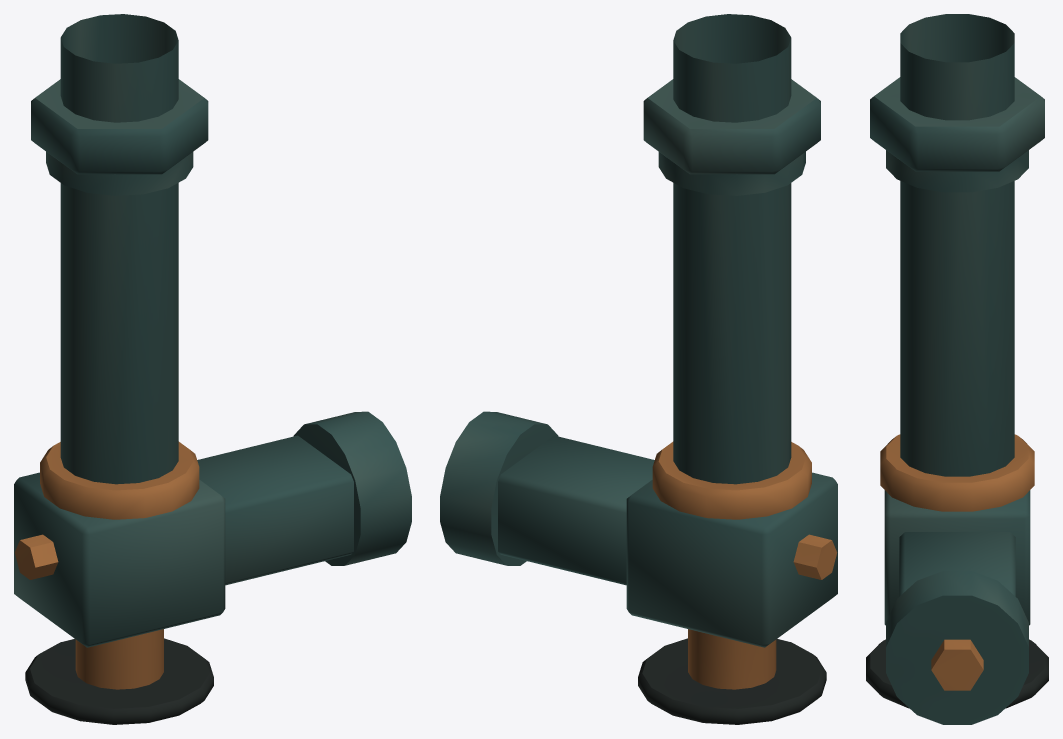
The model's file is gauge_dial_stand.glb.
3 renders of one model, left to right at view 1: azimuth 30°, elevation 25°; view 2: azimuth 150°, elevation 25°; view 3: azimuth 270°, elevation 25°, orthographic.
Visible parts, largest first — view 1: Stand; view 2: Stand; view 3: Stand.
Boxes of the visible parts, x1=… form: Stand: x1=14, y1=14, x2=411, y2=724; Stand: x1=440, y1=14, x2=837, y2=724; Stand: x1=866, y1=14, x2=1048, y2=724.
Size of the model in its own units: 1.45 by 2.42 by 0.6277.
